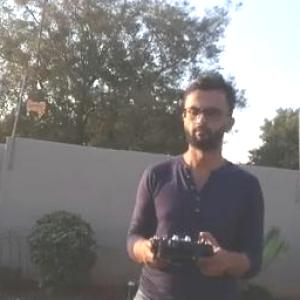follow: (110, 72, 261, 298)
